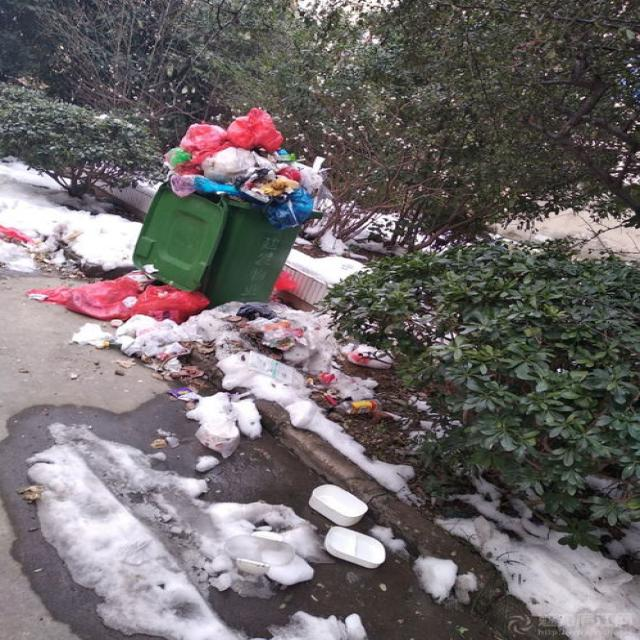garbage: (22, 269, 382, 416)
overflow: (131, 106, 327, 308)
